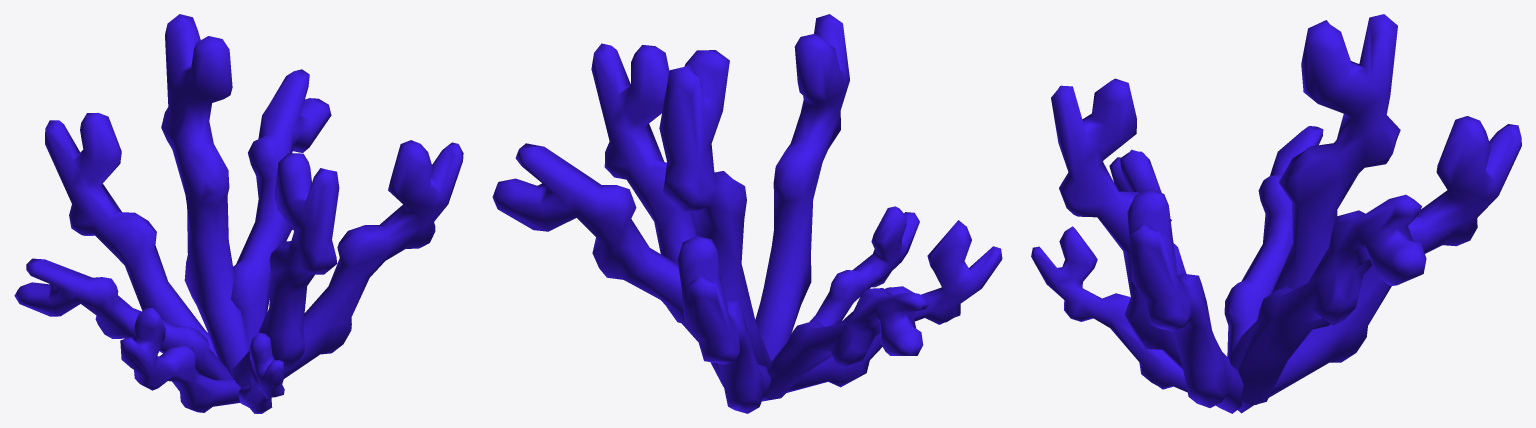
Rendered from blue_coral.glb.
3 renders of one model, left to right at view 1: azimuth 30°, elevation 25°; view 2: azimuth 150°, elevation 25°; view 3: azimuth 270°, elevation 25°, orthographic. The views are drawn at different scales.
Parts seen in each view (by area): view 1: node_id9; view 2: node_id9; view 3: node_id9.
Part boxes in pixels (x1,y1,x2,y2): node_id9: (14, 14, 463, 413); node_id9: (492, 14, 1002, 413); node_id9: (1031, 14, 1521, 413).
Size of the model in its own units: 0.0344 by 0.0303 by 0.0341.
